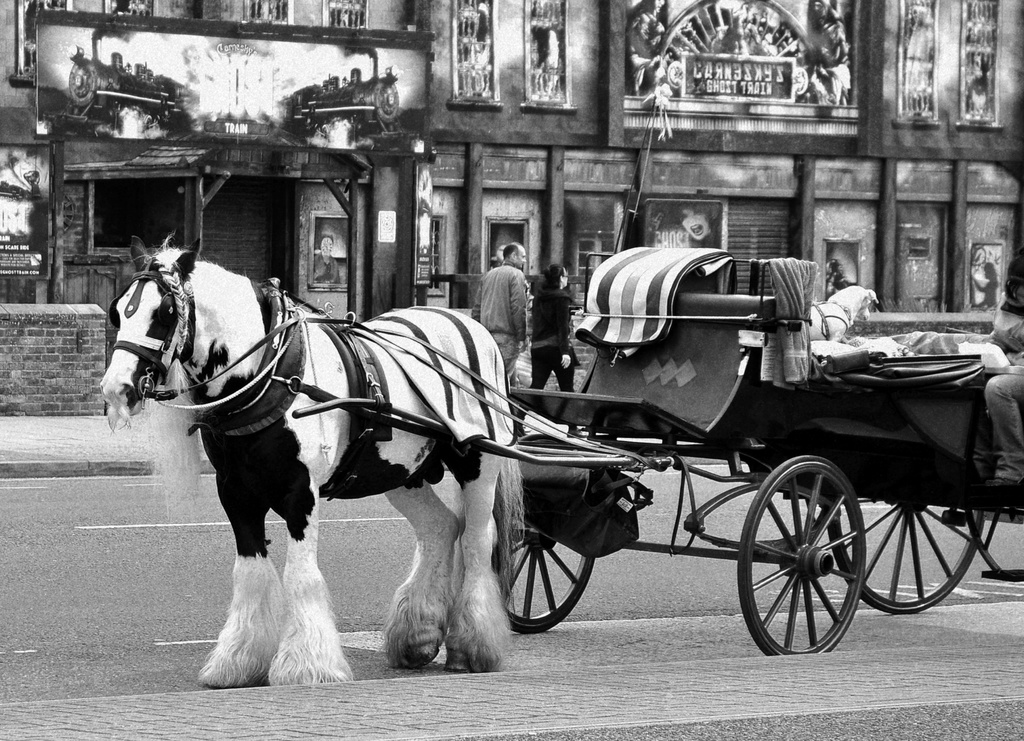horse: (99, 231, 525, 688)
